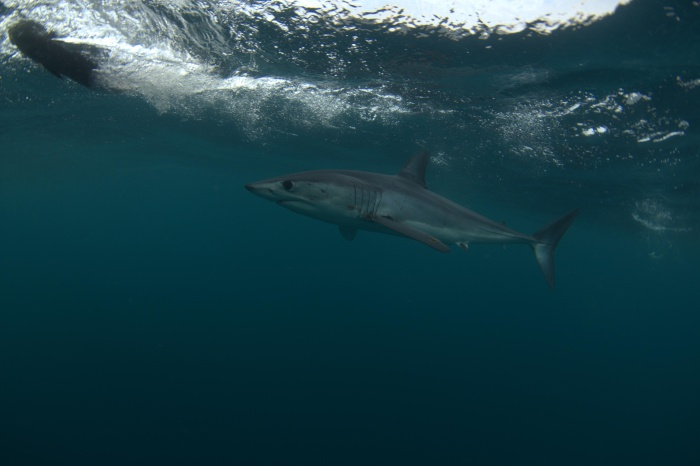Mako: (233, 143, 577, 297)
